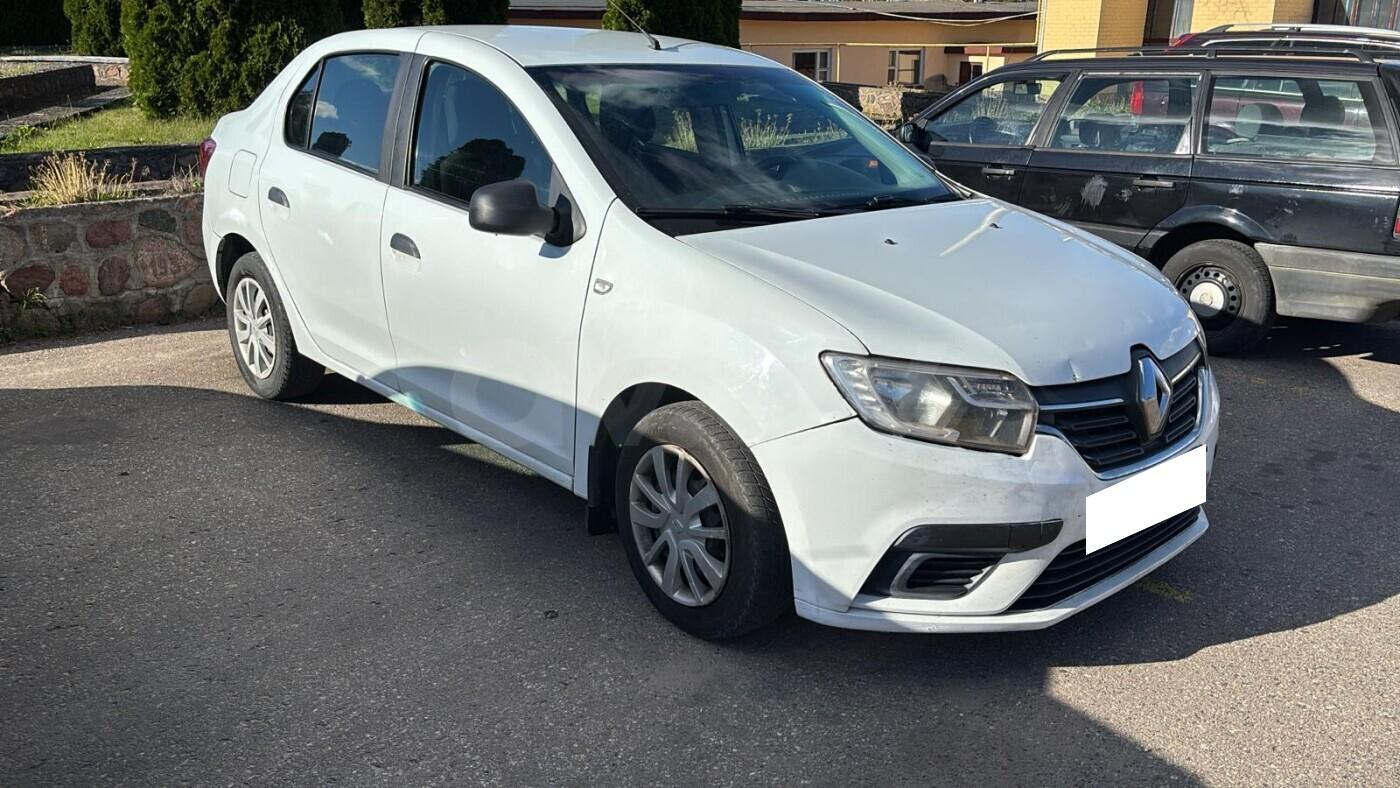Logan_2018: (194, 16, 1229, 649)
